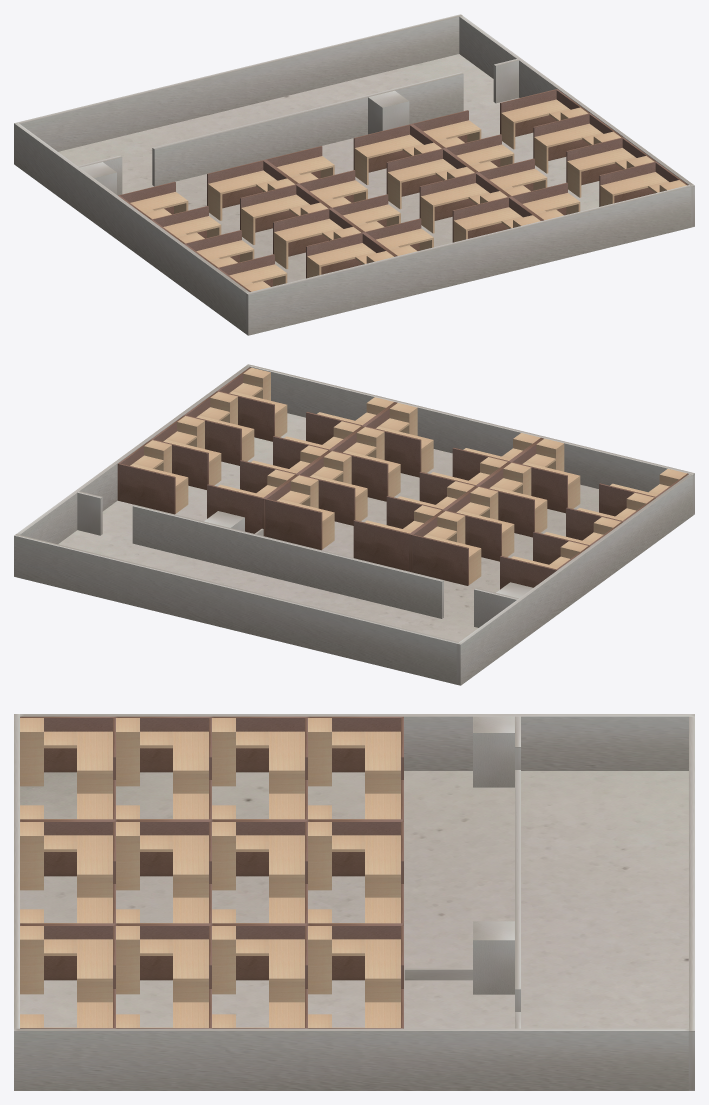
Rendered from office_3.DAE.
3 views of the same model, one above another, from view 1: azimuth 30°, elevation 25°; view 2: azimuth 150°, elevation 25°; view 3: azimuth 270°, elevation 25° (orthographic). The views are drawn at different scales.
Parts seen in each view (by area): view 1: Box010, Box007, Box008, Box015, Box011, Box009, Box155, Box350, Box373, Box359, Box001, Box231 (+45 smaller); view 2: Box008, Box007, Box015, Box011, Box010, Box009, Box283, Box359, Box001, Box215, Box340, Box360 (+33 smaller); view 3: Box007, Box009, Box011, Box155, Box154, Box008, Box299, Box305, Box311, Box317, Box259, Box265 (+61 smaller).
Part boxes in pixels (left/top/right/bottom): Box010: left=246, top=185, right=691, bottom=335; Box007: left=58, top=54, right=599, bottom=282; Box008: left=18, top=14, right=462, bottom=151; Box015: left=152, top=72, right=463, bottom=186; Box011: left=14, top=122, right=249, bottom=333; Box009: left=459, top=15, right=694, bottom=227; Box155: left=368, top=90, right=409, bottom=134; Box350: left=386, top=148, right=442, bottom=196; Box373: left=419, top=173, right=475, bottom=220; Box359: left=353, top=124, right=409, bottom=172; Box001: left=500, top=89, right=556, bottom=136; Box231: left=533, top=113, right=589, bottom=160; Box008: left=14, top=534, right=458, bottom=684; Box007: left=58, top=413, right=598, bottom=641; Box015: left=132, top=505, right=443, bottom=618; Box011: left=457, top=474, right=692, bottom=685; Box010: left=250, top=365, right=694, bottom=515; Box009: left=16, top=364, right=251, bottom=544; Box283: left=412, top=534, right=468, bottom=585; Box359: left=266, top=498, right=322, bottom=550; Box001: left=119, top=463, right=175, bottom=514; Box215: left=353, top=520, right=409, bottom=571; Box340: left=207, top=484, right=262, bottom=533; Box360: left=365, top=426, right=421, bottom=477; Box007: left=20, top=771, right=688, bottom=1028; Box009: left=14, top=1028, right=688, bottom=1090; Box011: left=20, top=714, right=694, bottom=770; Box155: left=473, top=921, right=514, bottom=994; Box154: left=473, top=716, right=514, bottom=787; Box008: left=689, top=716, right=694, bottom=1090; Box299: left=116, top=716, right=211, bottom=772; Box305: left=20, top=716, right=115, bottom=772; Box311: left=212, top=716, right=307, bottom=772; Box317: left=308, top=716, right=403, bottom=772; Box259: left=20, top=820, right=115, bottom=876; Box265: left=116, top=820, right=211, bottom=876.
Bounding box in the file's own units: 1249 × 1134 × 110.
4 materials, 4 textured.
